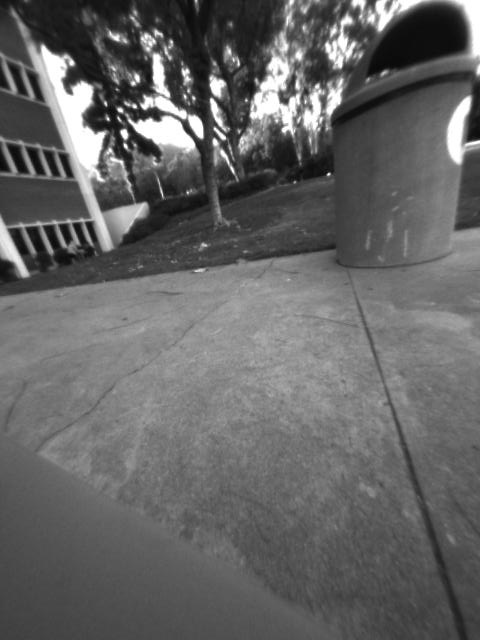trashcan: (327, 2, 479, 272)
